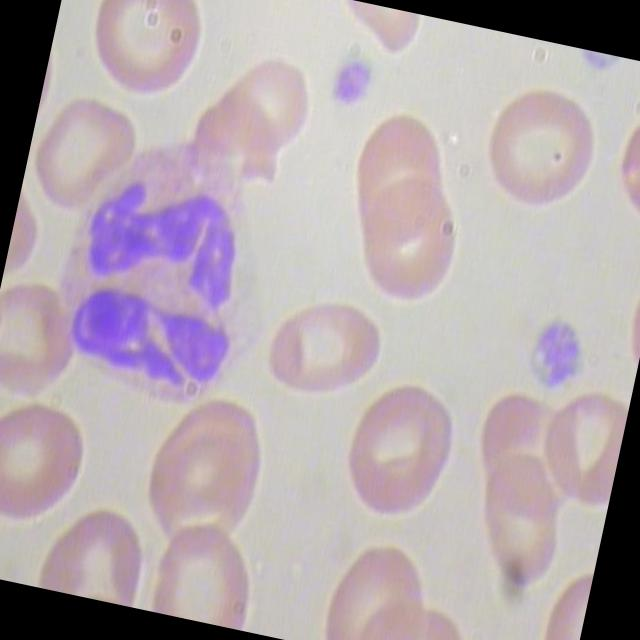Platelets: (514, 308, 594, 404), (319, 51, 386, 125)
RBC: (130, 385, 286, 570), (466, 72, 614, 232), (324, 369, 467, 533), (452, 438, 585, 596), (334, 104, 466, 263), (344, 161, 472, 319), (21, 86, 146, 230), (73, 0, 221, 115), (257, 288, 390, 415), (0, 385, 105, 541), (202, 42, 326, 174), (309, 527, 446, 640), (524, 382, 630, 524), (142, 516, 268, 632), (36, 494, 162, 609), (0, 271, 97, 412)
WBC: (34, 126, 294, 428)
